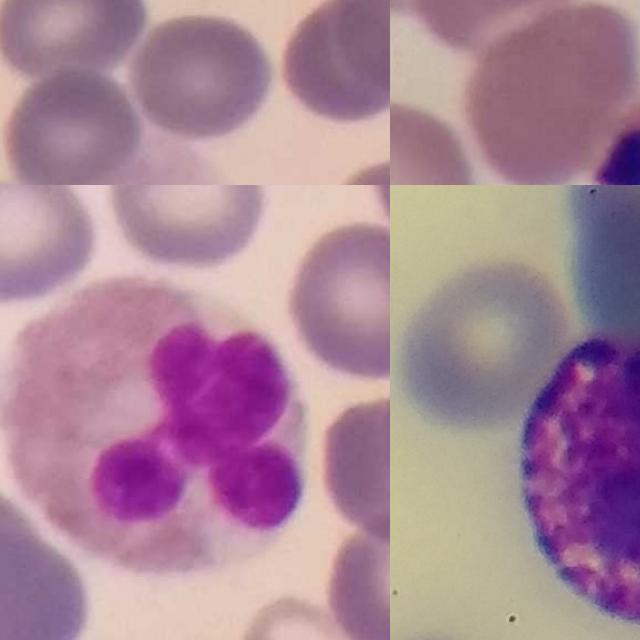Basophil: (517, 332, 640, 640)
Eosinophil: (6, 275, 308, 576)
